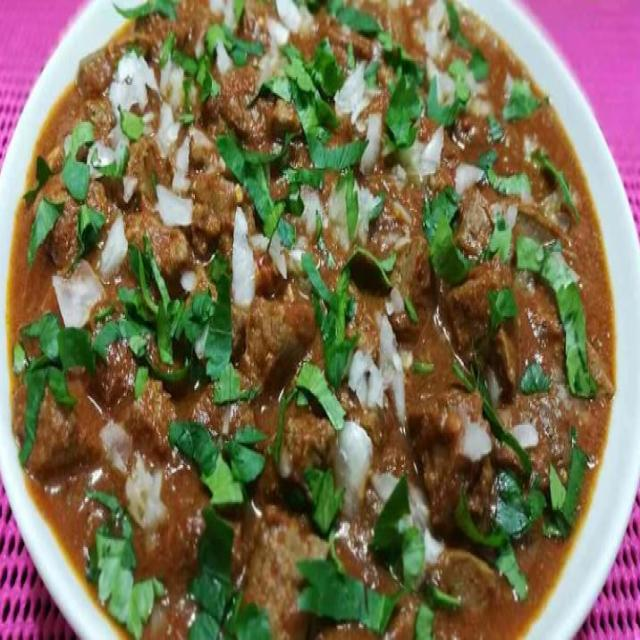kamouniya: (24, 7, 634, 626)
